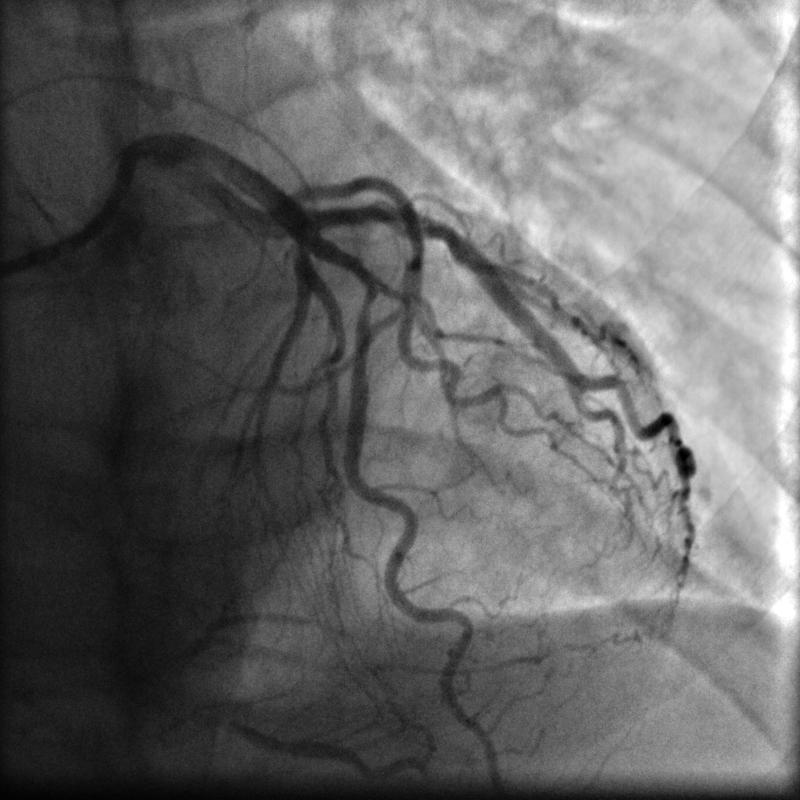Stenosis: (355, 281, 383, 356)
